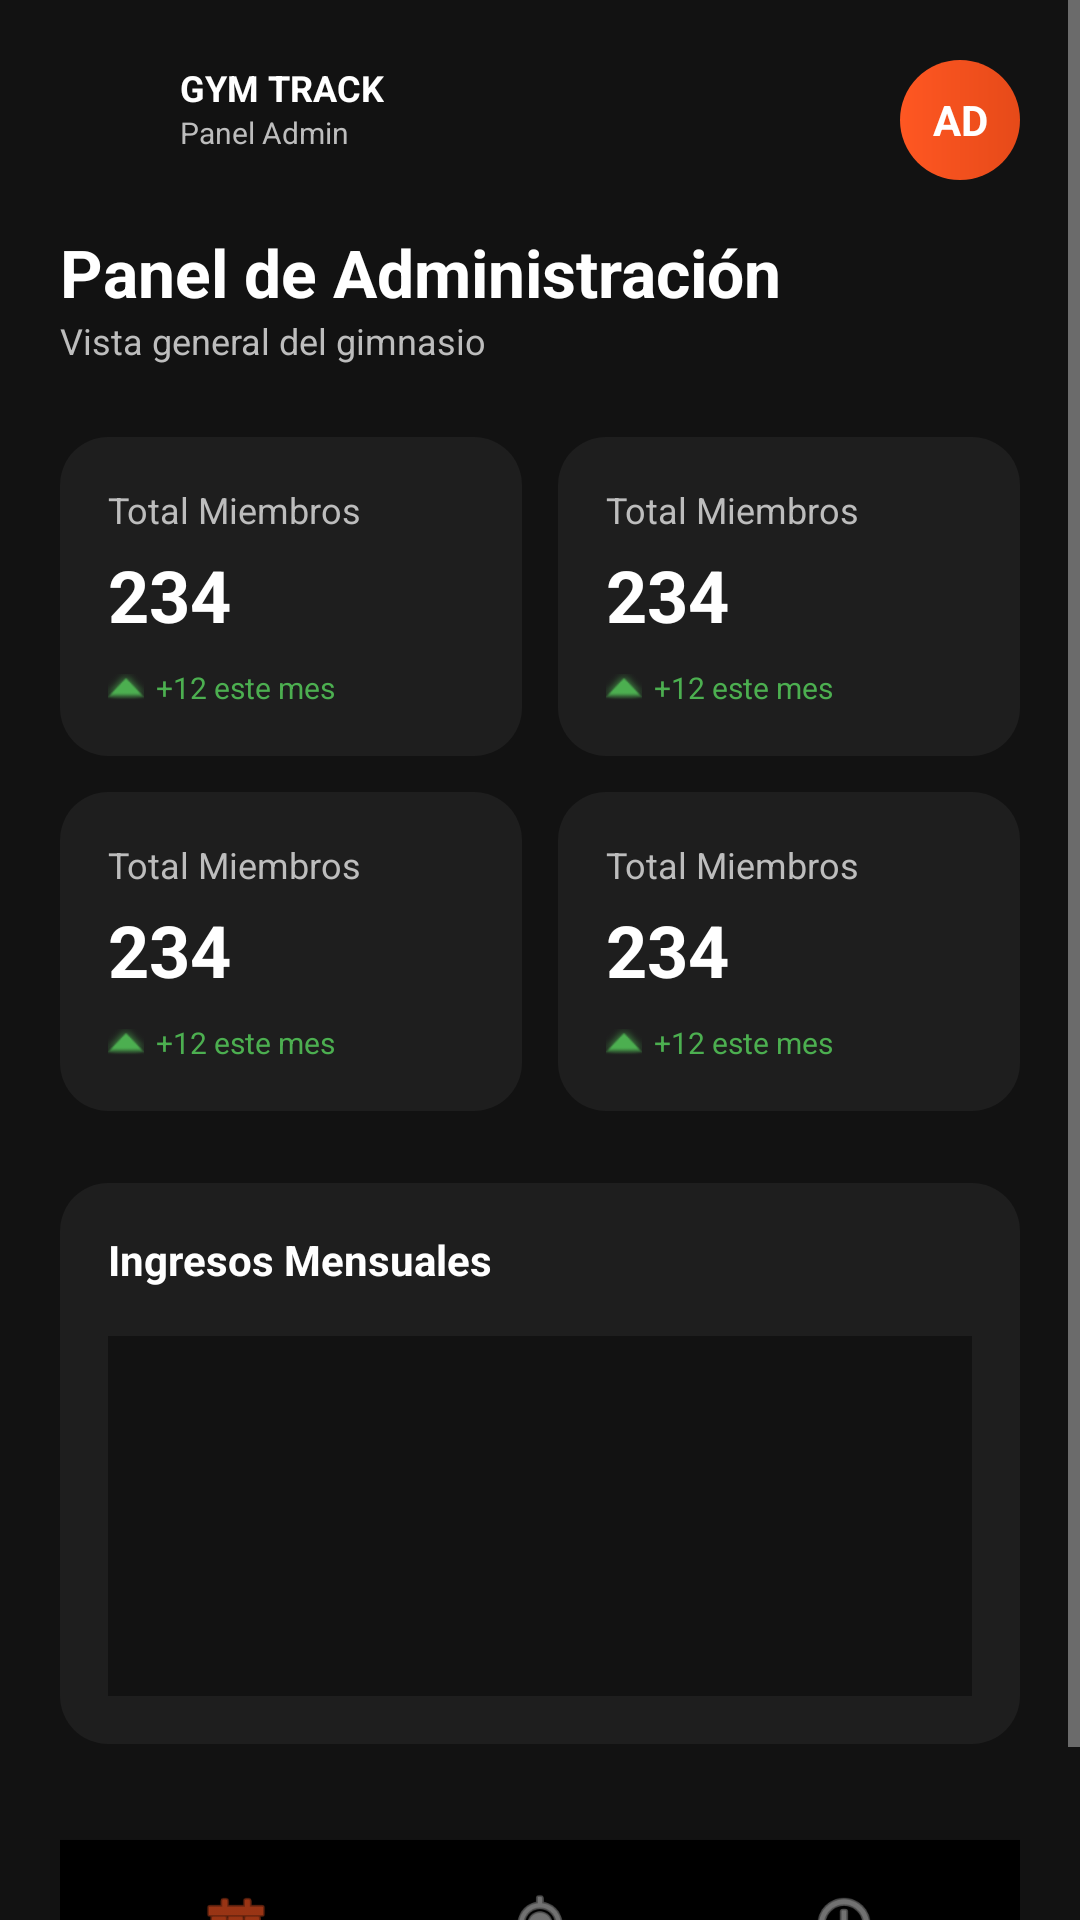

Locate icon controls on the screen. Image size 1080 × 1920, boxes as box=[x1, y1, x2, y2].
arrow up float: box=[108, 676, 144, 698], box=[606, 676, 642, 698], box=[108, 1031, 144, 1053], box=[606, 1031, 642, 1053]
